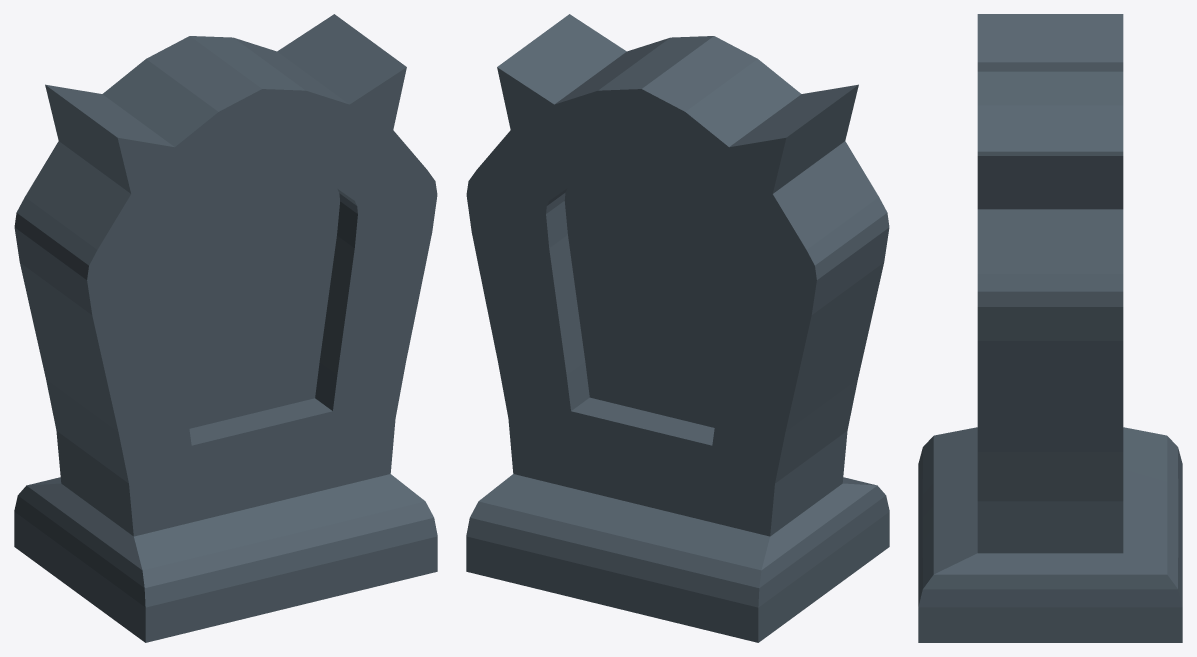
The model's file is grave_v2.fbx.
The picture shows the model from 3 angles, left to right: view 1: azimuth 30°, elevation 25°; view 2: azimuth 150°, elevation 25°; view 3: azimuth 270°, elevation 25°; orthographic projection.
Visible parts, largest first — view 1: GRAVE2; view 2: GRAVE2; view 3: GRAVE2.
Part boxes in pixels (x1,y1,x2,y2): GRAVE2: [14, 14, 437, 642]; GRAVE2: [466, 14, 889, 642]; GRAVE2: [918, 14, 1182, 642].
Size of the model in its own units: 0.305 by 0.4132 by 0.198.
